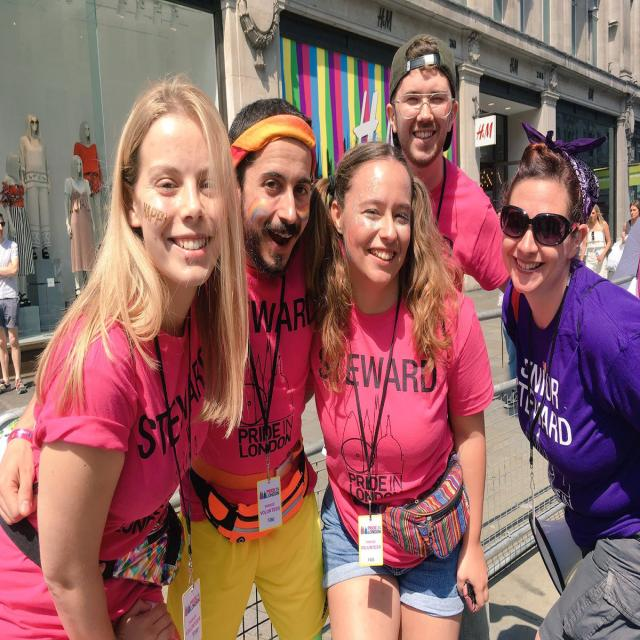body: (0, 94, 332, 640), (0, 63, 257, 640), (286, 131, 500, 639), (494, 112, 639, 639), (386, 34, 505, 290), (0, 90, 125, 322), (0, 209, 29, 398), (578, 202, 612, 282), (619, 198, 640, 240), (633, 252, 640, 301)
